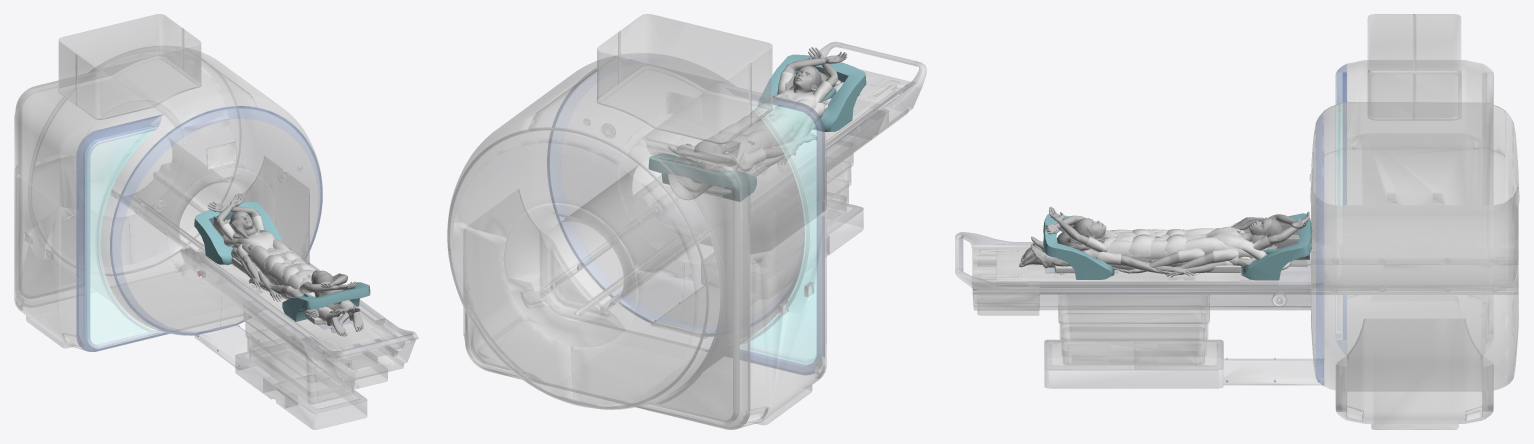
The model's file is Julia.glb.
3 views of the same model, side by side, from view 1: azimuth 30°, elevation 25°; view 2: azimuth 150°, elevation 25°; view 3: azimuth 270°, elevation 25° (orthographic). The views are drawn at different scales.
Parts seen in each view (by area): view 1: SM_MRI_base, Table, SM_MRI_bed_inOut.001, SM_head_arm_rest2, SM_head_arm_rest2.001, F5_body_geo1, F5_body_geo1.001, F5_scrubTop_geo5, F5_scrubBottom_geo4, F5_scrubBottom_geo1.001, F5_body_geo4, F5_body_geo3; view 2: SM_MRI_base, Table, SM_head_arm_rest2.001, SM_head_arm_rest2, F5_body_geo1.001, SM_MRI_bed_inOut.001, F5_body_geo1, CT_headHolder_geo1, F5_scrubTop_geo1.001, F5_scrubBottom_geo1.001; view 3: SM_MRI_base, Table, SM_MRI_bed_inOut.001, SM_head_arm_rest2, SM_head_arm_rest2.001, F5_body_geo1.001, F5_body_geo1, F5_scrubTop_geo5, F5_body_geo4, F5_scrubBottom_geo1.001, F5_scrubBottom_geo4, F5_scrubTop_geo4.
Part boxes in pixels (x1,y1,x2,y2): SM_MRI_base: (14,14,322,351); Table: (180,247,418,429); SM_MRI_bed_inOut.001: (205,257,394,360); SM_head_arm_rest2: (194,202,281,264); SM_head_arm_rest2.001: (282,282,370,321); F5_body_geo1: (207,193,259,229); F5_body_geo1.001: (225,220,356,292); F5_scrubTop_geo5: (224,230,293,271); F5_scrubBottom_geo4: (282,263,355,323); F5_scrubBottom_geo1.001: (231,240,292,272); F5_body_geo4: (232,247,363,336); F5_body_geo3: (258,270,360,325); SM_MRI_base: (447,14,826,429); Table: (633,42,926,338); SM_head_arm_rest2.001: (758,54,866,131); SM_head_arm_rest2: (648,153,756,201); F5_body_geo1.001: (688,47,847,169); SM_MRI_bed_inOut.001: (664,80,896,203); F5_body_geo1: (668,137,733,167); CT_headHolder_geo1: (668,157,719,199); F5_scrubTop_geo1.001: (759,71,832,119); F5_scrubBottom_geo1.001: (719,122,781,148); SM_MRI_base: (1310,14,1519,429); Table: (955,232,1323,388); SM_MRI_bed_inOut.001: (996,247,1278,286); SM_head_arm_rest2: (1241,213,1312,280); SM_head_arm_rest2.001: (1043,213,1114,279); F5_body_geo1.001: (1046,206,1290,248); F5_body_geo1: (1249,211,1309,245); F5_scrubTop_geo5: (1183,226,1265,259); F5_body_geo4: (1019,243,1179,273); F5_scrubBottom_geo1.001: (1168,228,1252,257); F5_scrubBottom_geo4: (1046,229,1149,269); F5_scrubTop_geo4: (1148,229,1204,263).
Size of the model in its own units: 1.94 by 2.02 by 3.38.
7 materials, 7 textured.
